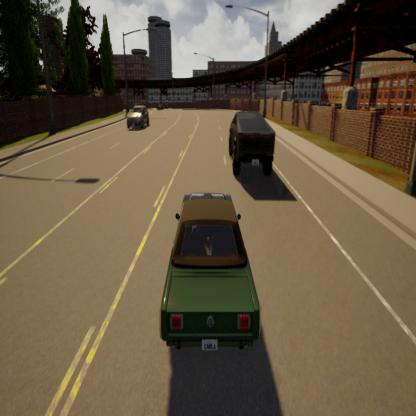Cars: (157, 186, 263, 358), (221, 108, 283, 187), (126, 103, 152, 134)
